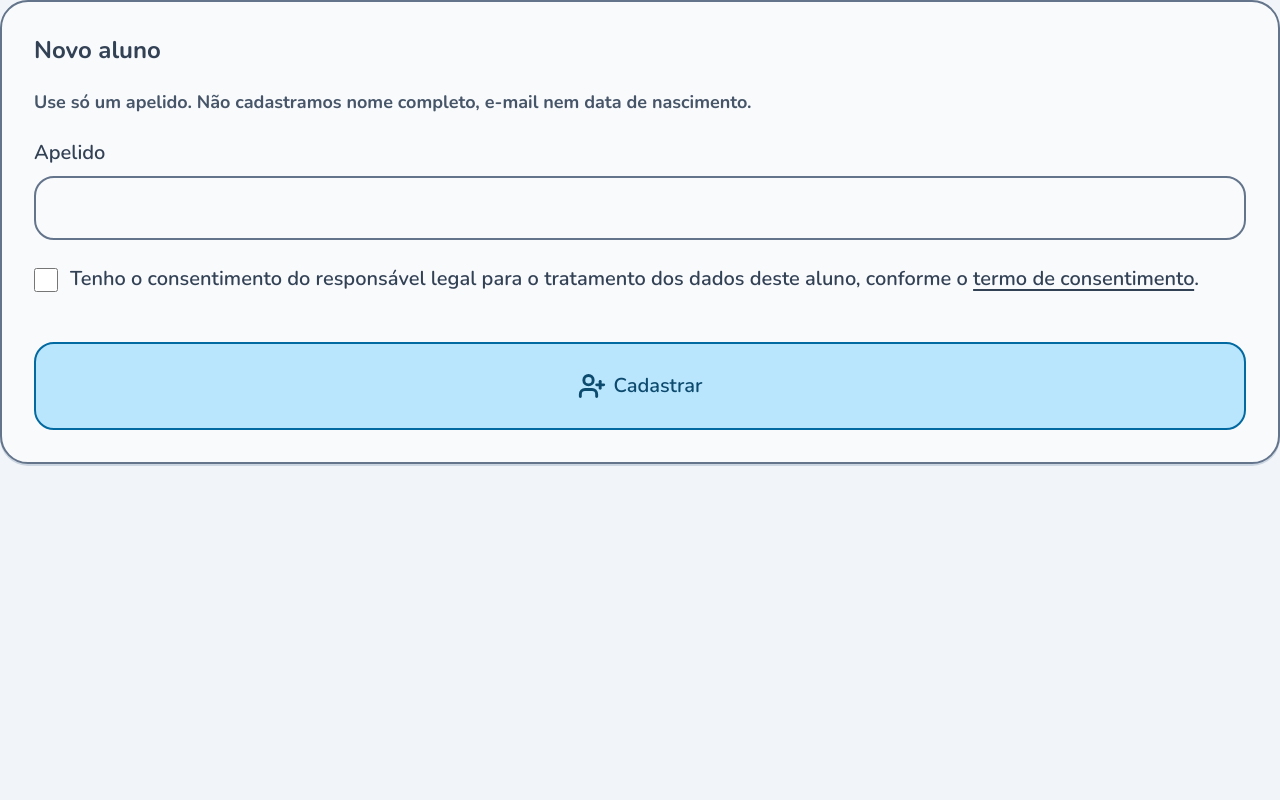
Test: NewStudentForm › cadastra, mostra código e PIN uma vez e atualiza a lista
Type "Lua" into the field labelled "Apelido" at {"x": 640, "y": 208}, box [34,176,1246,240]
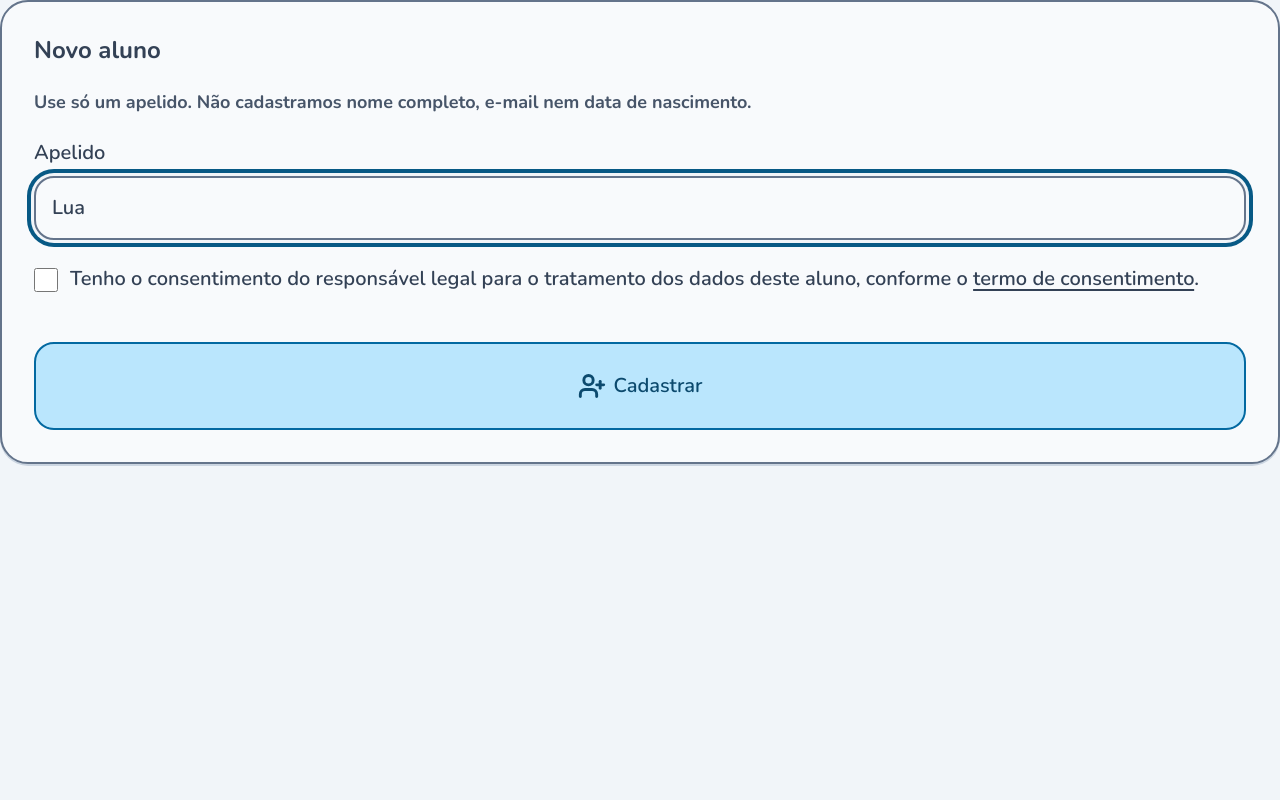
Click the checkbox labelled "consentimento" at {"x": 46, "y": 280}, box [34,268,58,292]
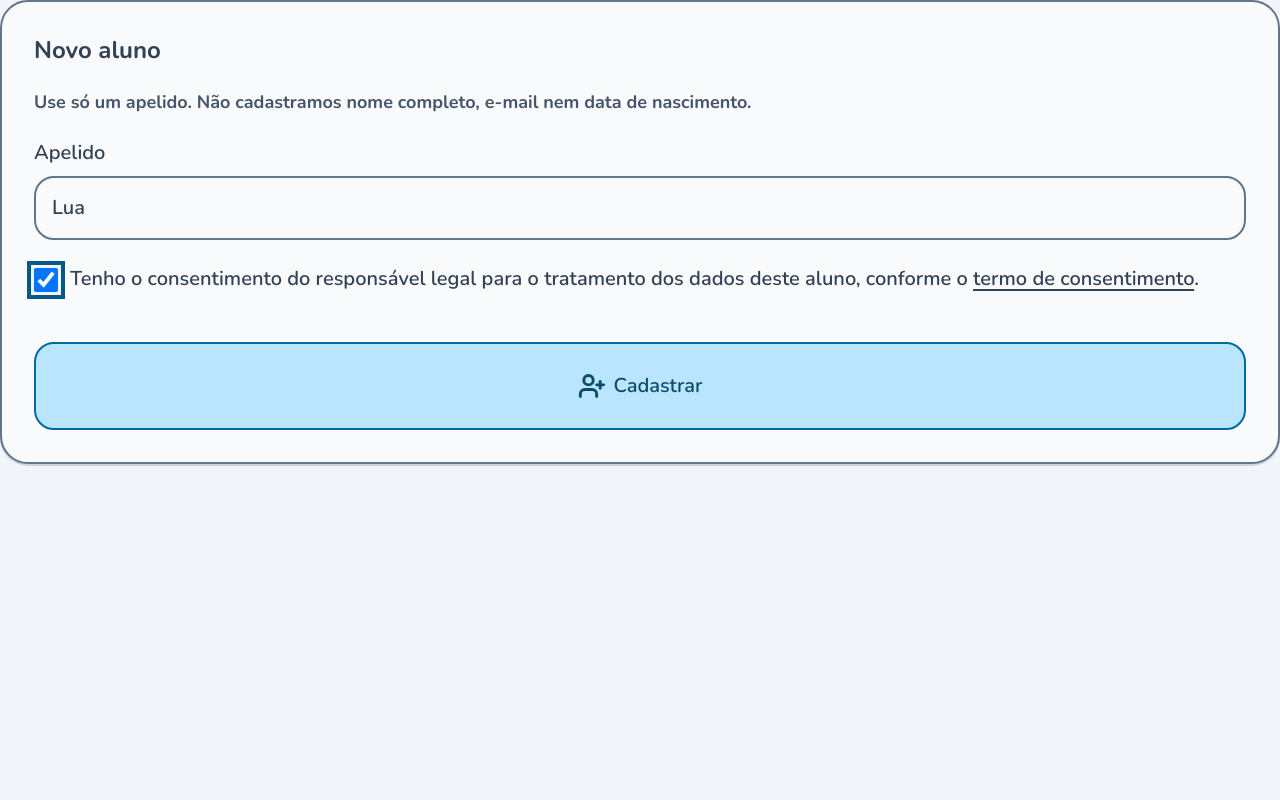
Click the button "Cadastrar" at {"x": 640, "y": 386}, box [34,342,1246,430]
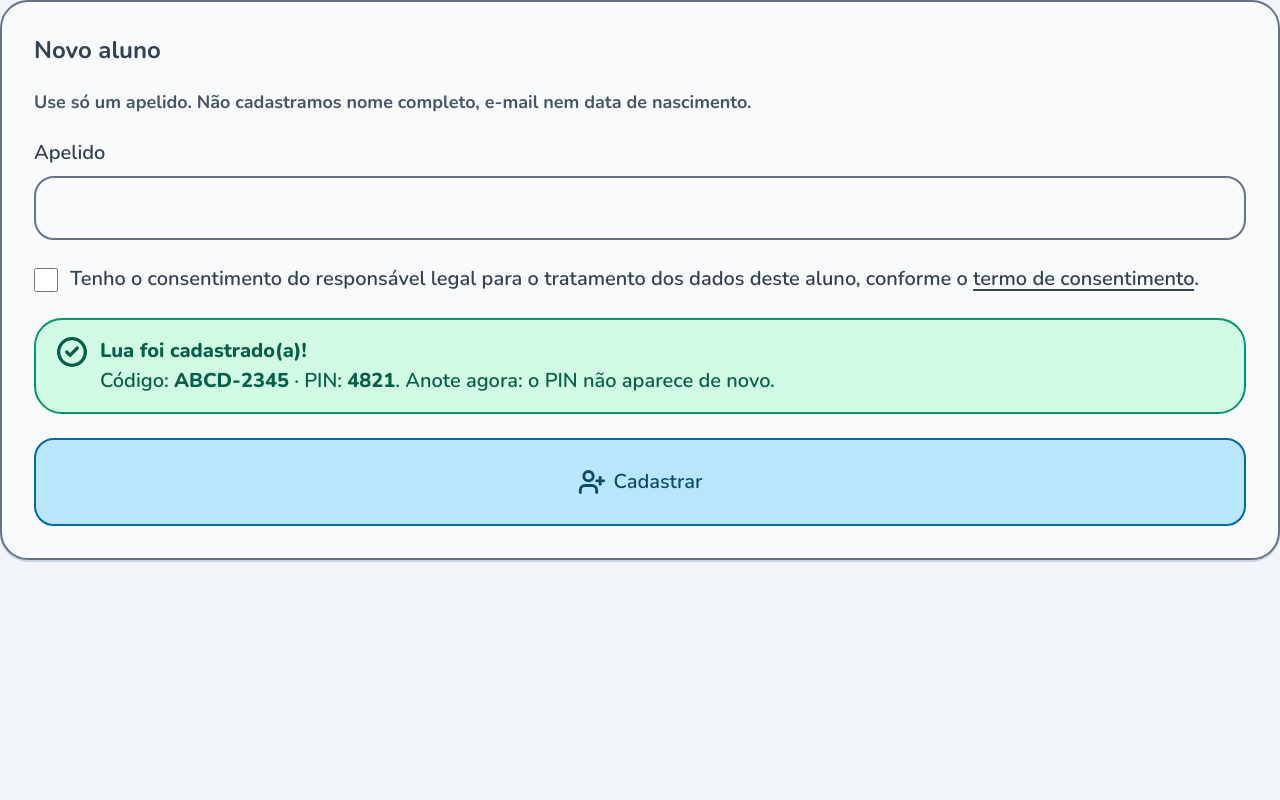
Result: the text "Lua foi cadastrado(a)!" is shown at [100,337,307,364]
Result: the text "ABCD-2345" is shown at [174,367,289,394]
Result: the text "4821" is shown at [347,367,395,394]
